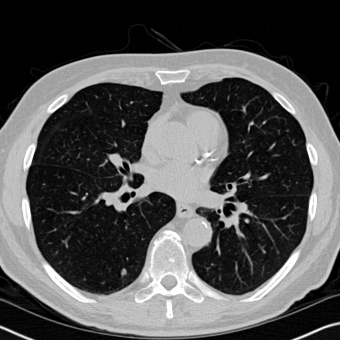nodule: (120, 268, 126, 274)
